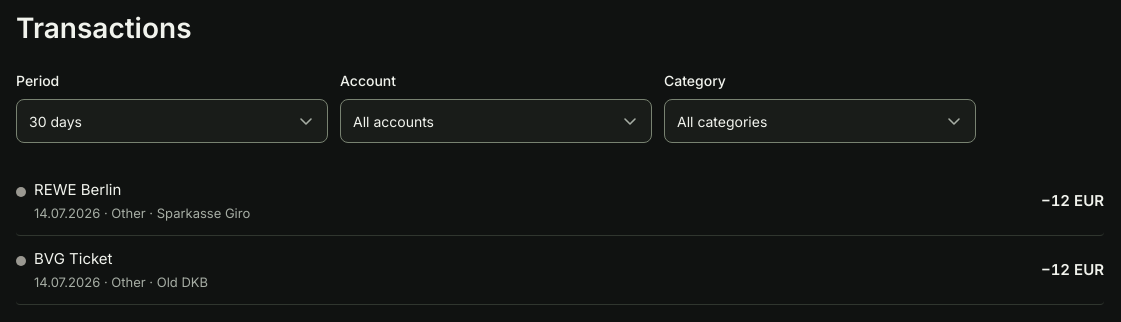
Scenario: the account a row belongs to › names it in every row, and stops once the Account filter names one
expect the text "14.07.2026 · Other · Sparkasse Giro" is shown: met, box [34,204,250,223]
expect the text "14.07.2026 · Other · Old DKB" is shown: met, box [34,272,208,292]
Select "Sparkasse Giro" in the dropdown labelled "Account" at (496, 121), box [340,99,652,143]
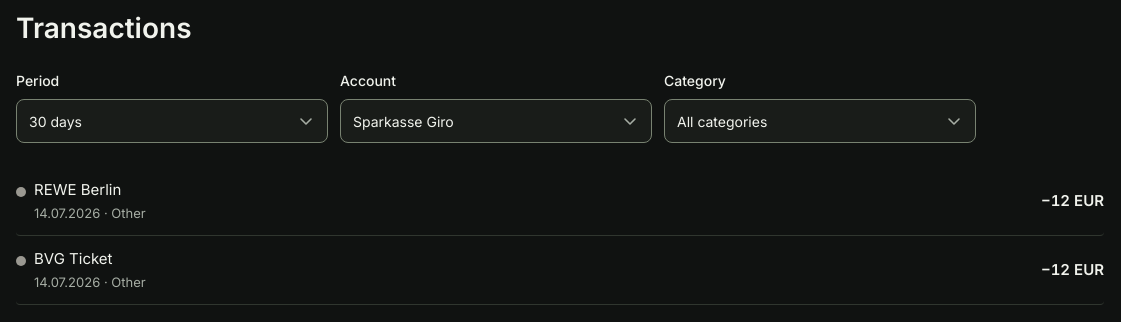
expect the text "REWE Berlin" is shown: met, box [34,180,121,199]
expect the button "· Sparkasse Giro" is gone: met
expect the button "· Old DKB" is gone: met
